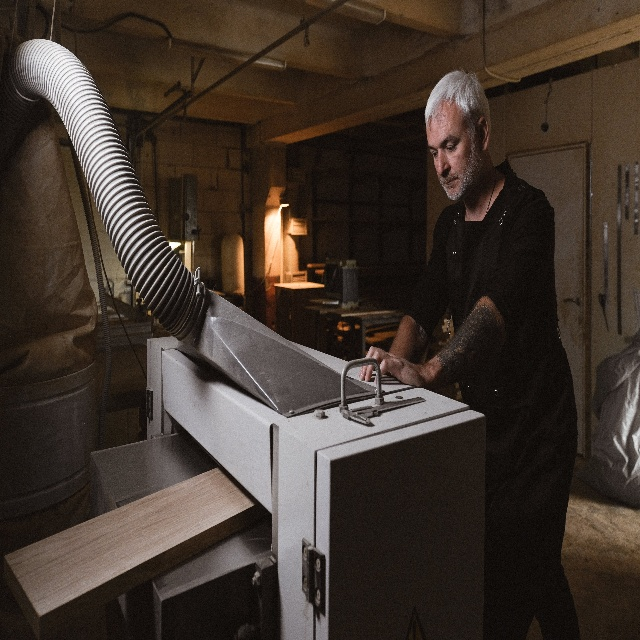Sin_guantes: (359, 343, 426, 388)
